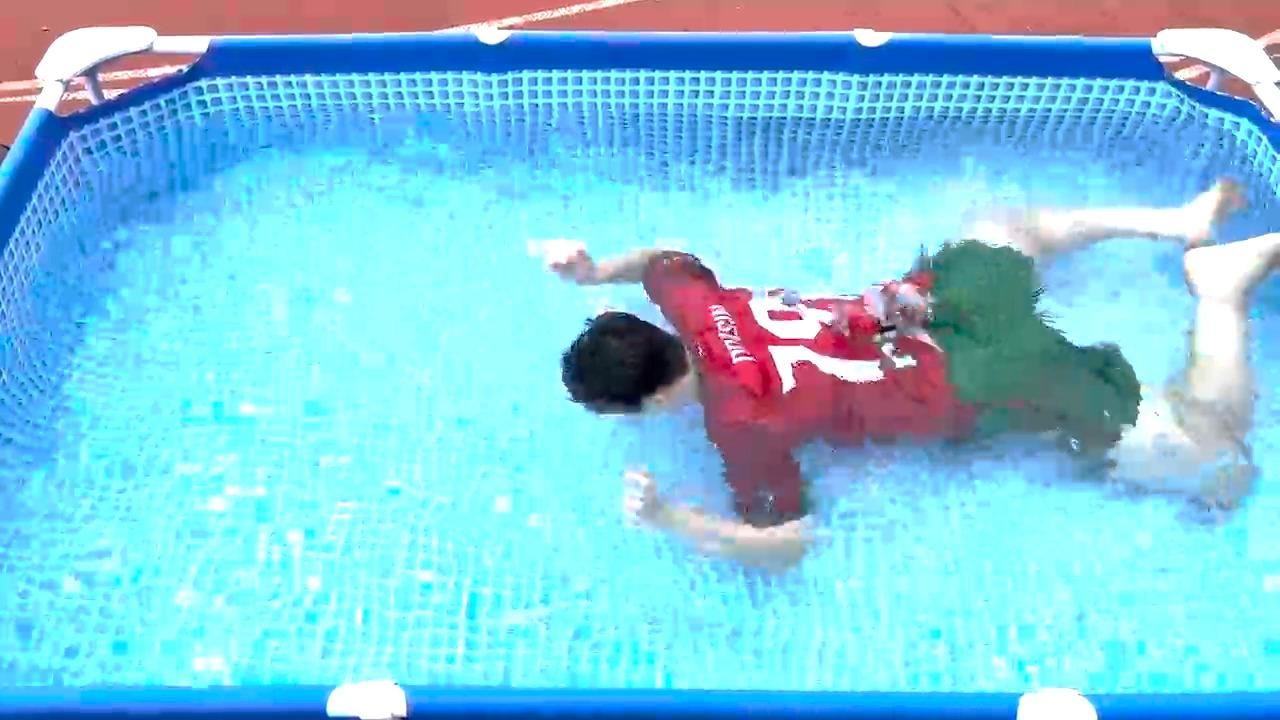Drowning: (475, 173, 1280, 579)
